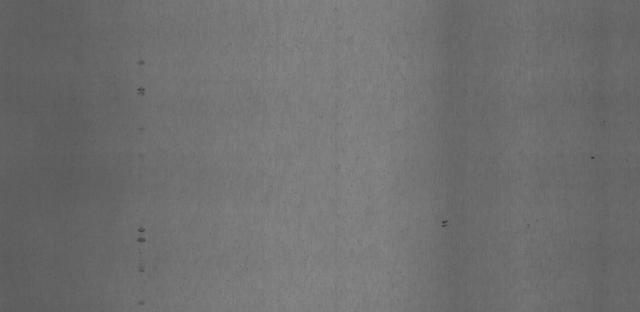oil_spot: (134, 224, 154, 275), (132, 55, 150, 108), (136, 298, 148, 310)
